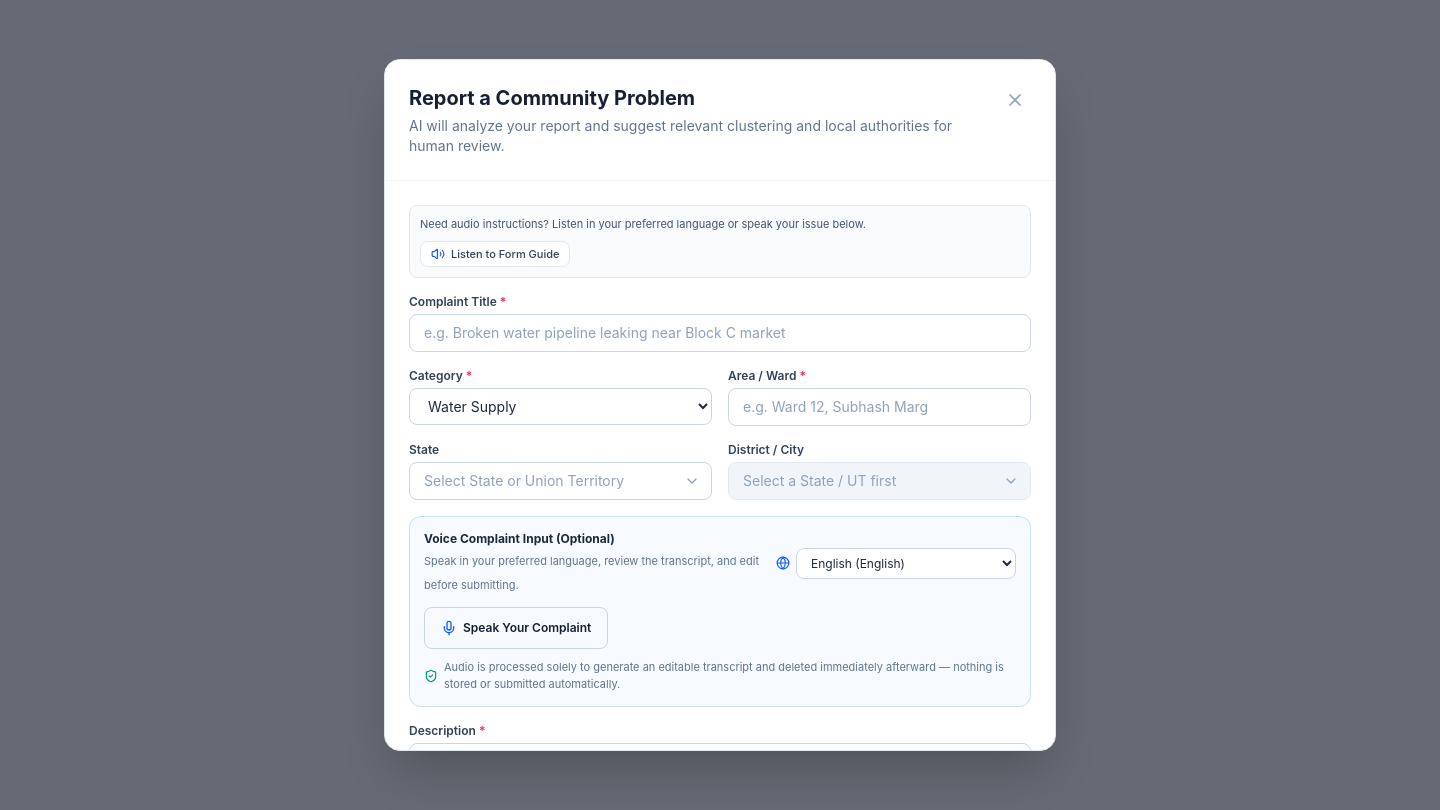
it: VoiceInput (Speech-to-Text) workflows › transcribes spoken audio into editable preview, handles cancellation & low confidence, and NEVER auto-submits
The width and height of the screenshot is (1440, 810).
Click the button "Speak Your Complaint" at (516, 628), box [424, 607, 608, 649]
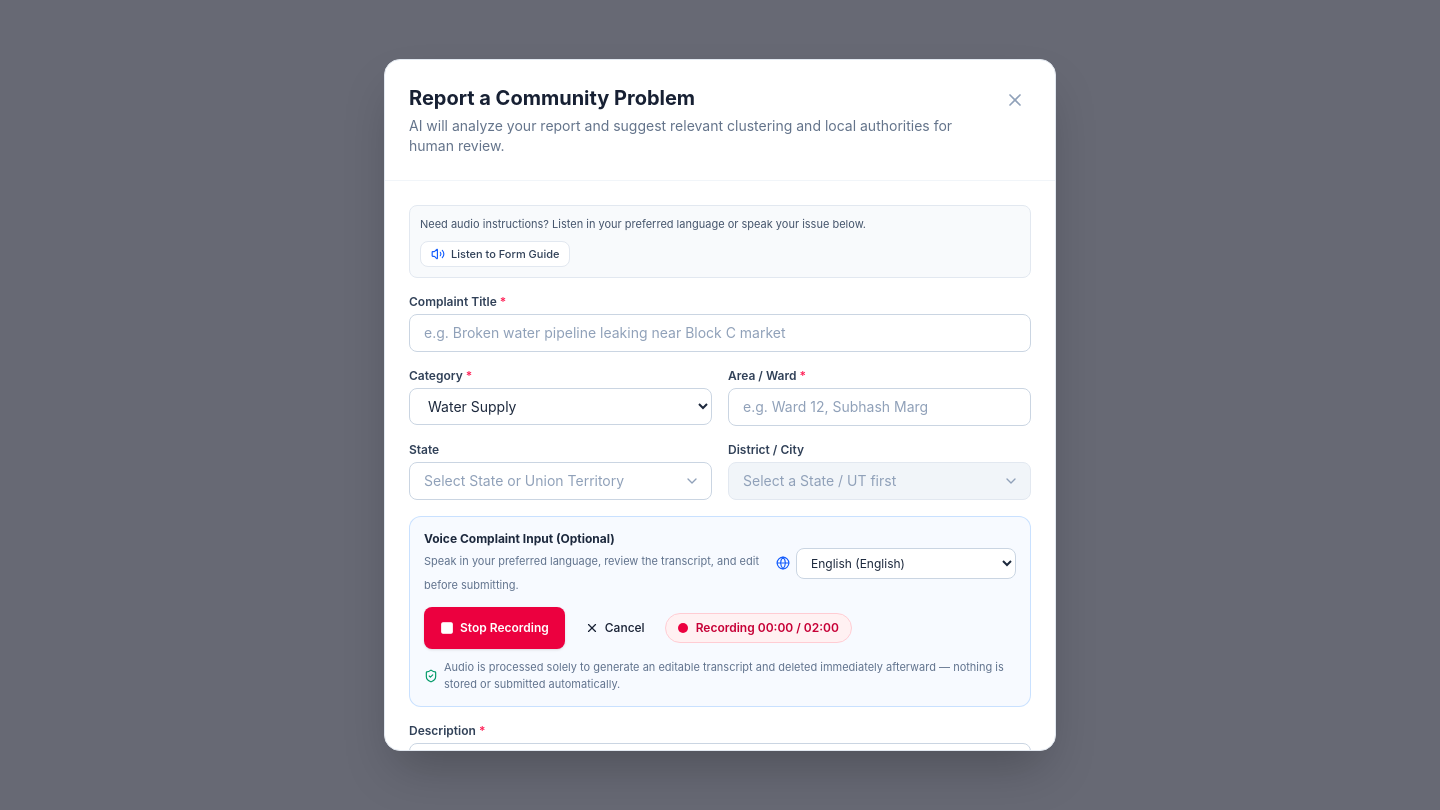
Click the button with aria-label "Cancel voice recording" at (615, 628), box [575, 607, 655, 649]
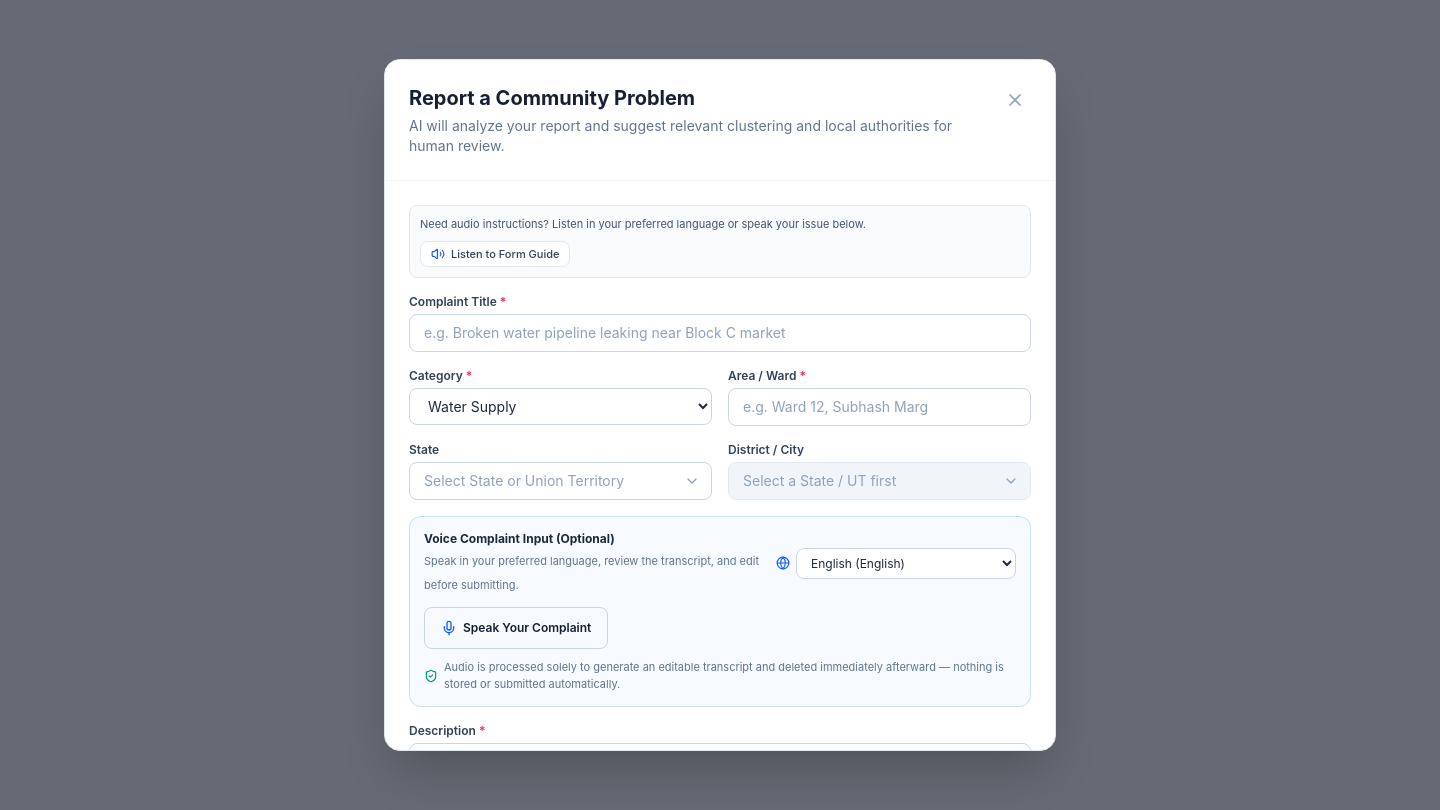
Expected: the text "Transcript Preview" is not shown
Click the button "Speak Your Complaint" at (516, 628), box [424, 607, 608, 649]
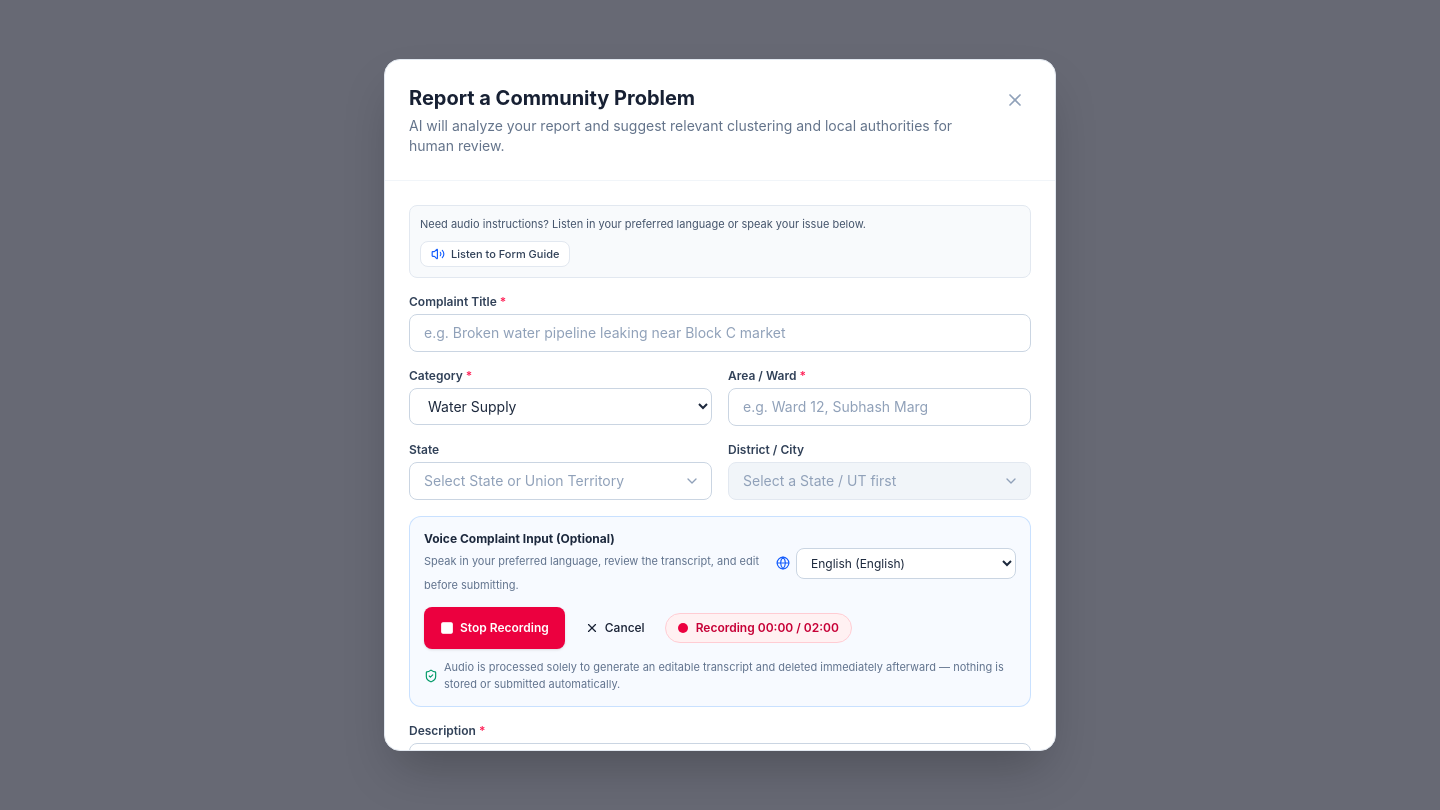
Click the button "Stop Recording" at (494, 628), box [424, 607, 565, 649]
(page scrolled)
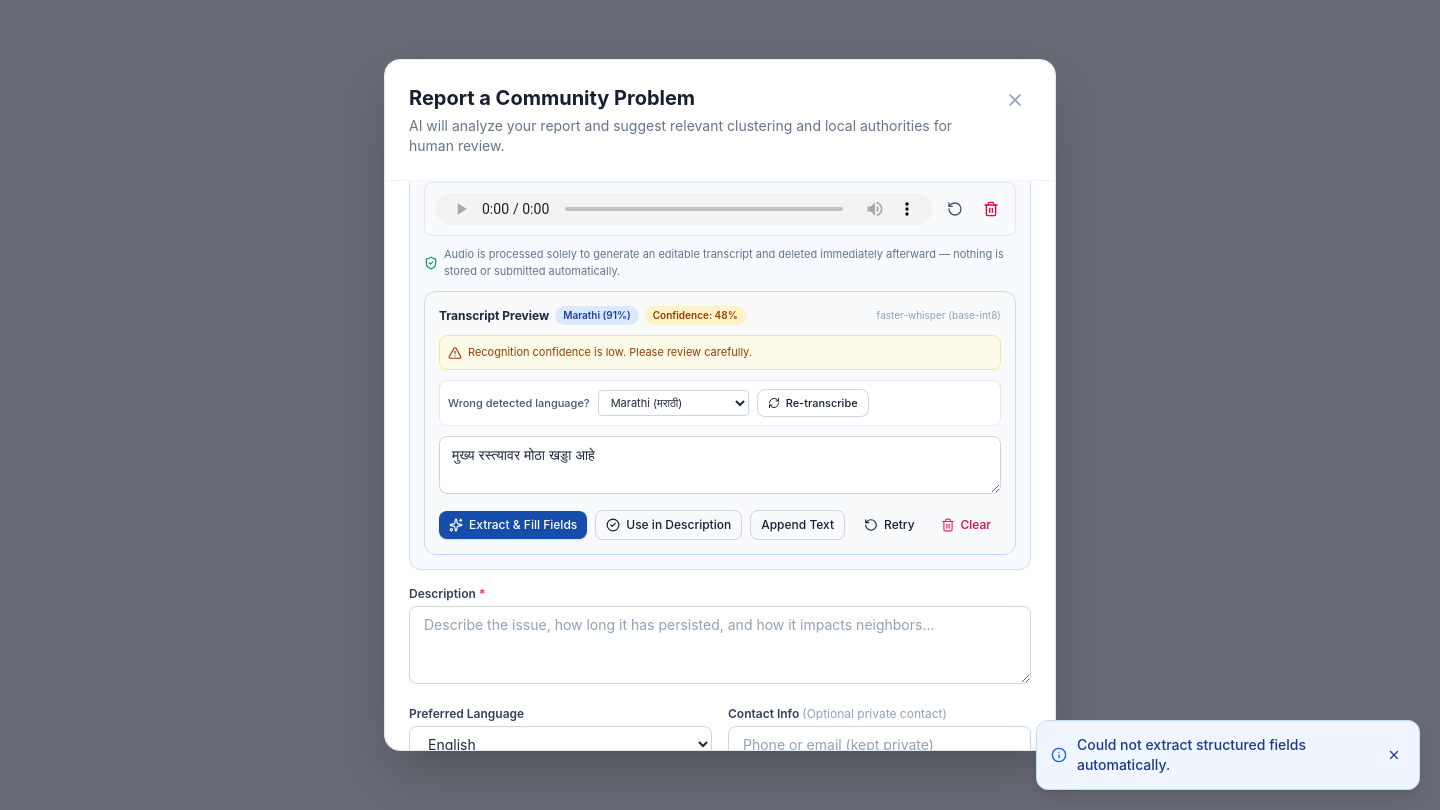
Result: the text "Transcript Preview" is shown at [439, 308, 549, 324]
Result: the text "Confidence: 48%" is shown at [645, 306, 746, 325]
Result: the text "Recognition confidence is low. Please review carefully." is shown at [468, 344, 752, 361]
Replace the text in the text box named "Editable voice transcript preview" with "मुख्य रस्त्यावर मोठा खड्डा आहे तातडीने दुरुस्ती करा" at (720, 465), box [439, 436, 1001, 494]
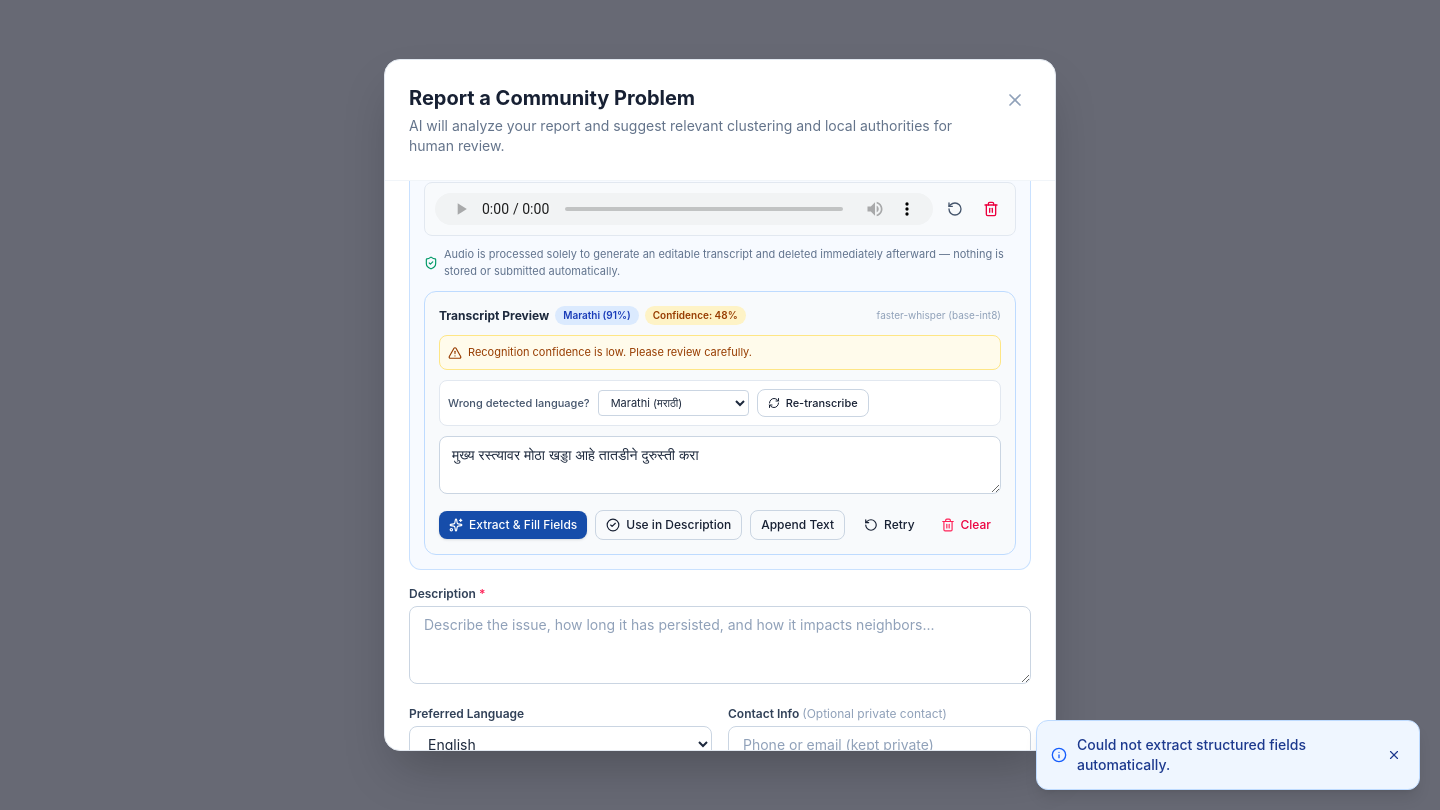
Click the button "Use in Description" at (669, 525), box [595, 510, 742, 540]
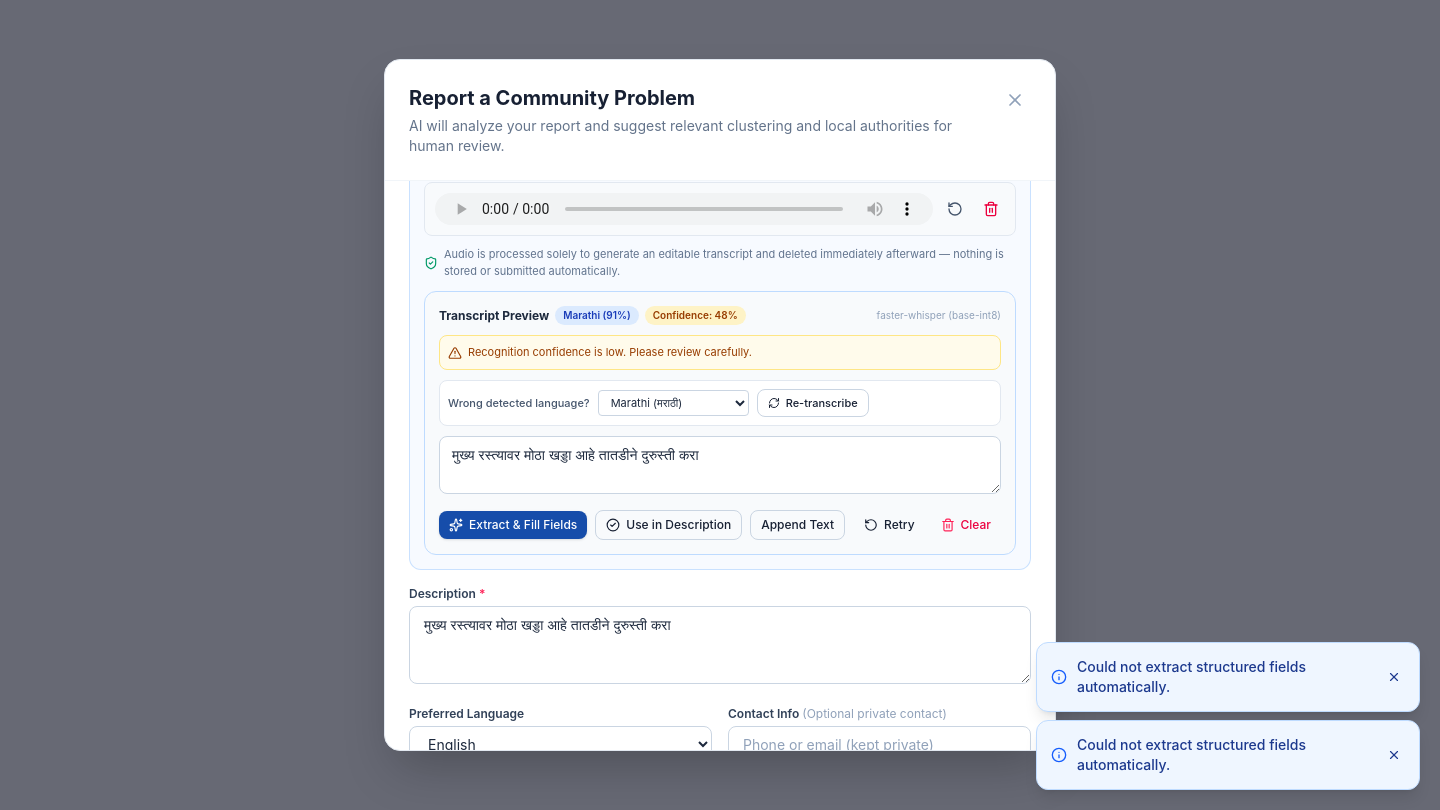
Result: the text box with placeholder "Describe the issue" holds "मुख्य रस्त्यावर मोठा खड्डा आहे तातडीने दुरुस्ती करा" at [409, 606, 1031, 684]
